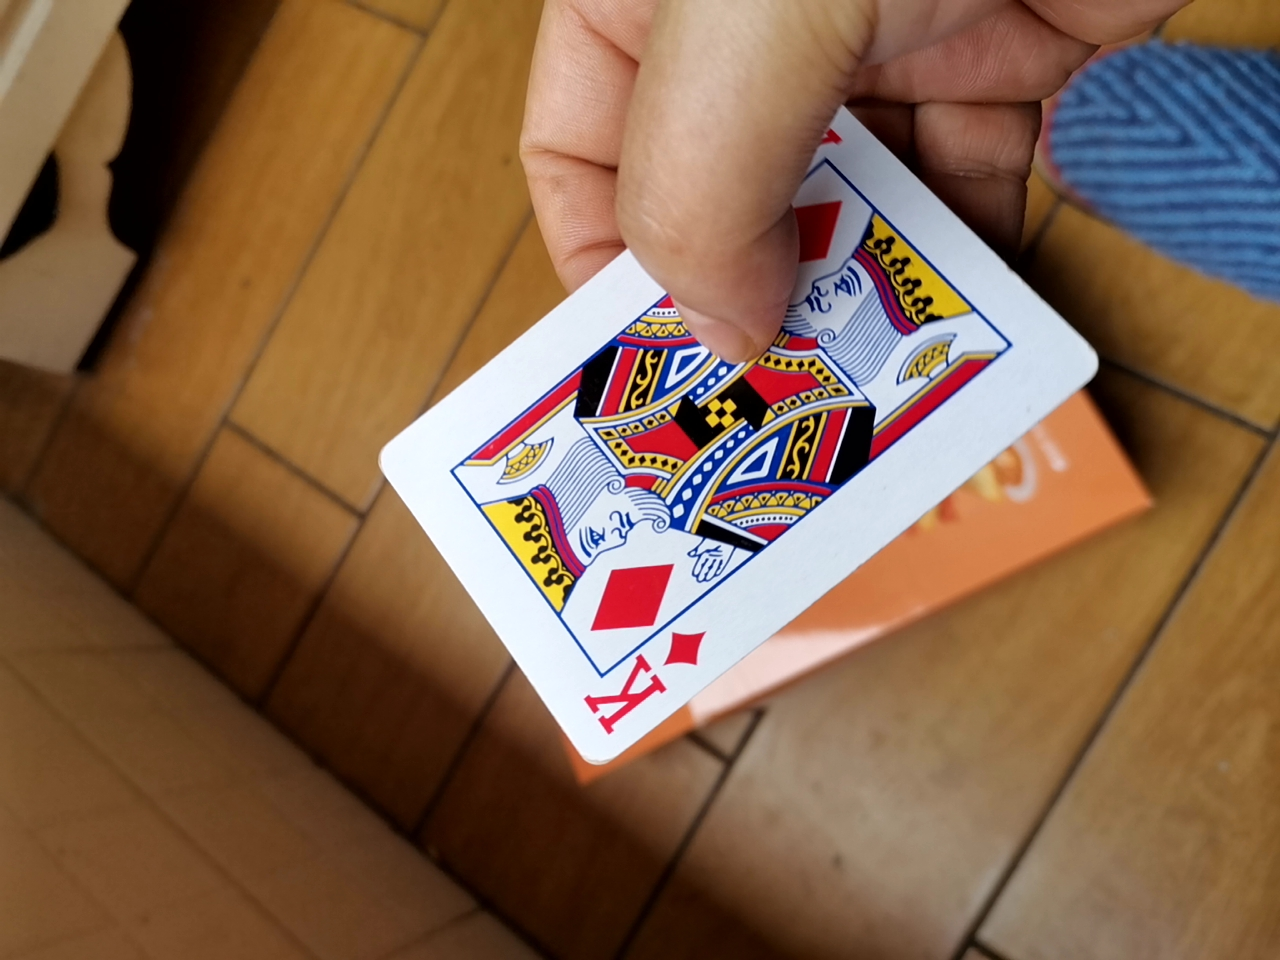fk k: (341, 112, 1101, 762)
